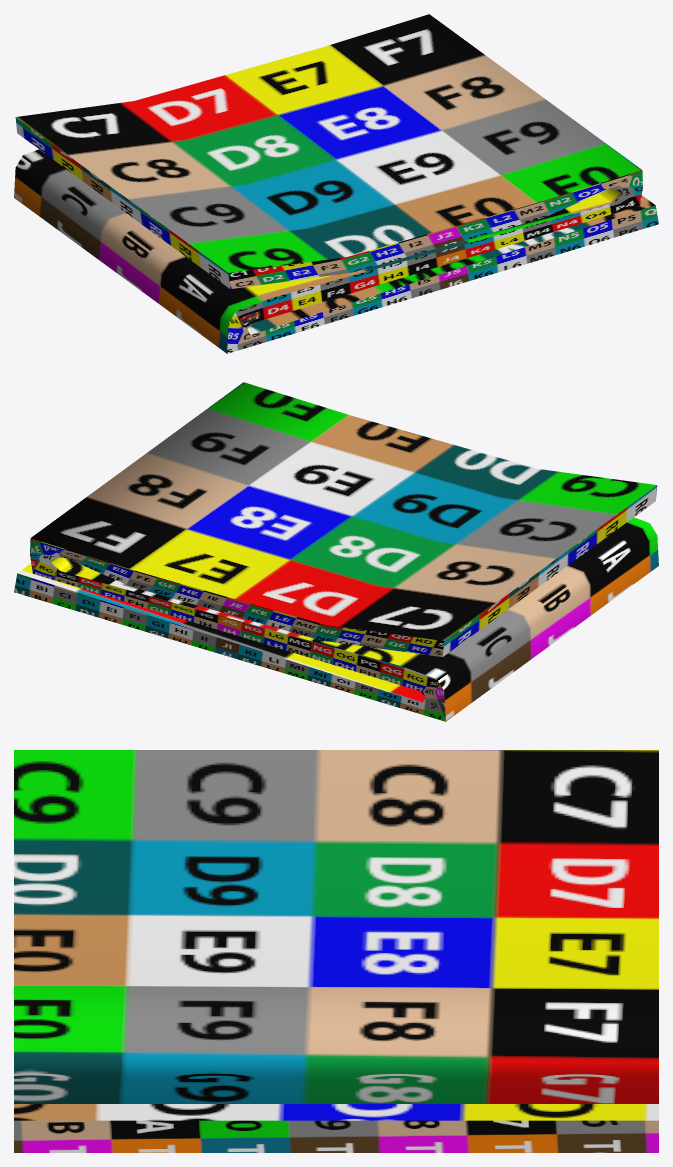
The model's file is towel2.2.FBX.
3 views of the same model, one above another, from view 1: azimuth 30°, elevation 25°; view 2: azimuth 150°, elevation 25°; view 3: azimuth 270°, elevation 25° (orthographic). The views are drawn at different scales.
Parts seen in each view (by area): view 1: towel2; view 2: towel2; view 3: towel2.
Boxes of the visible parts, x1,y1,x2,y2 form: towel2: (14,14,658,353); towel2: (14,382,658,721); towel2: (14,750,658,1152).
Bounding box in the file's own units: 0.8396 × 0.1531 × 0.7175.
Materials: 1 (1 with a texture image).
